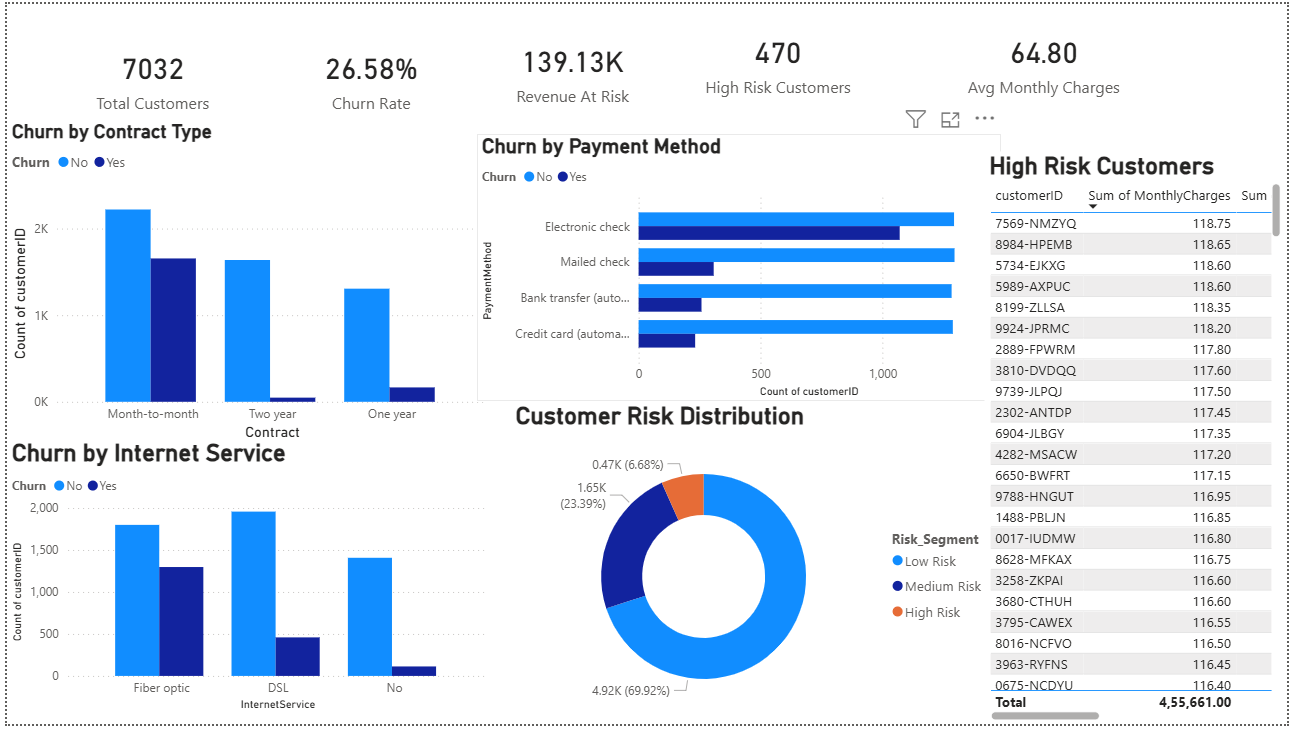

What the dashboard file says about the page in this screenshot:
{"tool":"powerbi","page":{"name":"Page 1","canvas":[1280,720],"ordinal":0},"visuals":[{"type":"card","fields":{"Values":["churn_dashboard_dataset.Total Customers"]},"box":[0,0,292,148],"z":0},{"type":"card","fields":{"Values":["churn_dashboard_dataset.Churn Rate"]},"box":[259.2,0,211.6,148],"z":1000},{"type":"card","fields":{"Values":["churn_dashboard_dataset.Revenue At Risk"]},"box":[459.8,0,211.6,134.5],"z":2000},{"type":"card","fields":{"Values":["churn_dashboard_dataset.High Risk Customers"]},"box":[657.9,0,227.4,116.2],"z":3000},{"type":"card","fields":{"Values":["churn_dashboard_dataset.Avg Monthly Charges"]},"box":[930.6,0,214,116.2],"z":4000},{"type":"clusteredColumnChart","title":"Churn by Contract Type","fields":{"Category":["churn_dashboard_dataset.Contract"],"Y":["CountNonNull(churn_dashboard_dataset.customerID)"],"Series":["churn_dashboard_dataset.Churn"]},"box":[0,116.5,485.7,325.3],"z":5000},{"type":"clusteredBarChart","title":"Churn by Payment Method","fields":{"Category":["churn_dashboard_dataset.PaymentMethod"],"Series":["churn_dashboard_dataset.Churn"],"Y":["CountNonNull(churn_dashboard_dataset.customerID)"]},"box":[470.3,129.7,523.1,268.1],"z":6000},{"type":"clusteredColumnChart","title":"Churn by Internet Service","fields":{"Category":["churn_dashboard_dataset.InternetService"],"Y":["CountNonNull(churn_dashboard_dataset.customerID)"],"Series":["churn_dashboard_dataset.Churn"]},"box":[0,435.2,485.7,276.9],"z":7000},{"type":"donutChart","title":"Customer Risk Distribution","fields":{"Category":["churn_dashboard_dataset.Risk_Segment"],"Y":["CountNonNull(churn_dashboard_dataset.customerID)"]},"box":[503.3,397.8,490.1,323.1],"z":8000},{"type":"tableEx","title":"High Risk Customers","fields":{"Values":["churn_dashboard_dataset.customerID","Sum(churn_dashboard_dataset.MonthlyCharges)","Sum(churn_dashboard_dataset.tenure)","Sum(churn_dashboard_dataset.Churn_Probability)","churn_dashboard_dataset.Risk_Segment","churn_dashboard_dataset.High Risk Customers"]},"box":[978,147.3,301.1,573.6],"z":9000}]}

Visuals, with their boxes in screenshot pixels (x1, y1, x2, y2), scaled from the page's 1280x720 canvas onto the 1296x732 screenshot:
card - churn_dashboard_dataset.Total Customers: box(0, 0, 296, 150)
card - churn_dashboard_dataset.Churn Rate: box(262, 0, 477, 150)
card - churn_dashboard_dataset.Revenue At Risk: box(466, 0, 680, 137)
card - churn_dashboard_dataset.High Risk Customers: box(666, 0, 896, 118)
card - churn_dashboard_dataset.Avg Monthly Charges: box(942, 0, 1159, 118)
"Churn by Contract Type" clusteredColumnChart: box(0, 118, 492, 449)
"Churn by Payment Method" clusteredBarChart: box(476, 132, 1006, 404)
"Churn by Internet Service" clusteredColumnChart: box(0, 442, 492, 724)
"Customer Risk Distribution" donutChart: box(510, 404, 1006, 731)
"High Risk Customers" tableEx: box(990, 150, 1295, 731)
